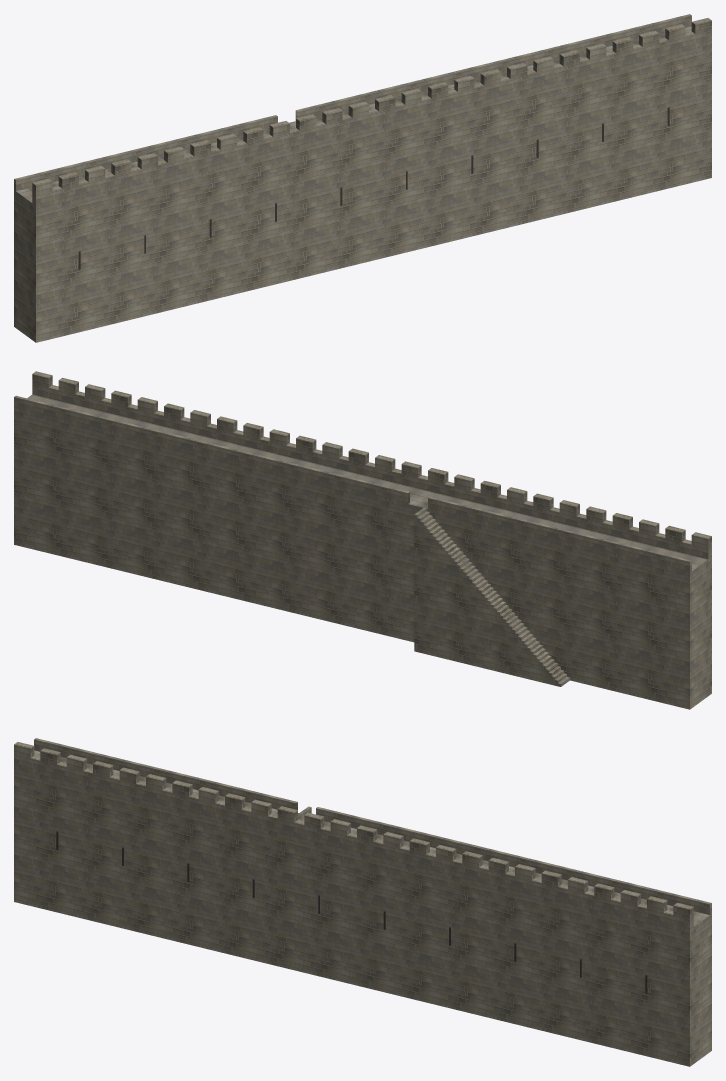
File: fort-wall-62s.reveal-v1.lod0.glb
The picture shows the model from 3 angles, top to bottom: view 1: azimuth 30°, elevation 25°; view 2: azimuth 150°, elevation 25°; view 3: azimuth 330°, elevation 25°; orthographic projection.
Parts seen in each view (by area): view 1: fort-wall-62s; view 2: fort-wall-62s; view 3: fort-wall-62s.
Part boxes in pixels (x1,y1,x2,y2): fort-wall-62s: (14, 14, 711, 342); fort-wall-62s: (14, 371, 711, 709); fort-wall-62s: (14, 738, 711, 1066).
Bounding box in the file's own units: 62 × 13.8 × 4.97.
Materials: 3 (2 with a texture image).
